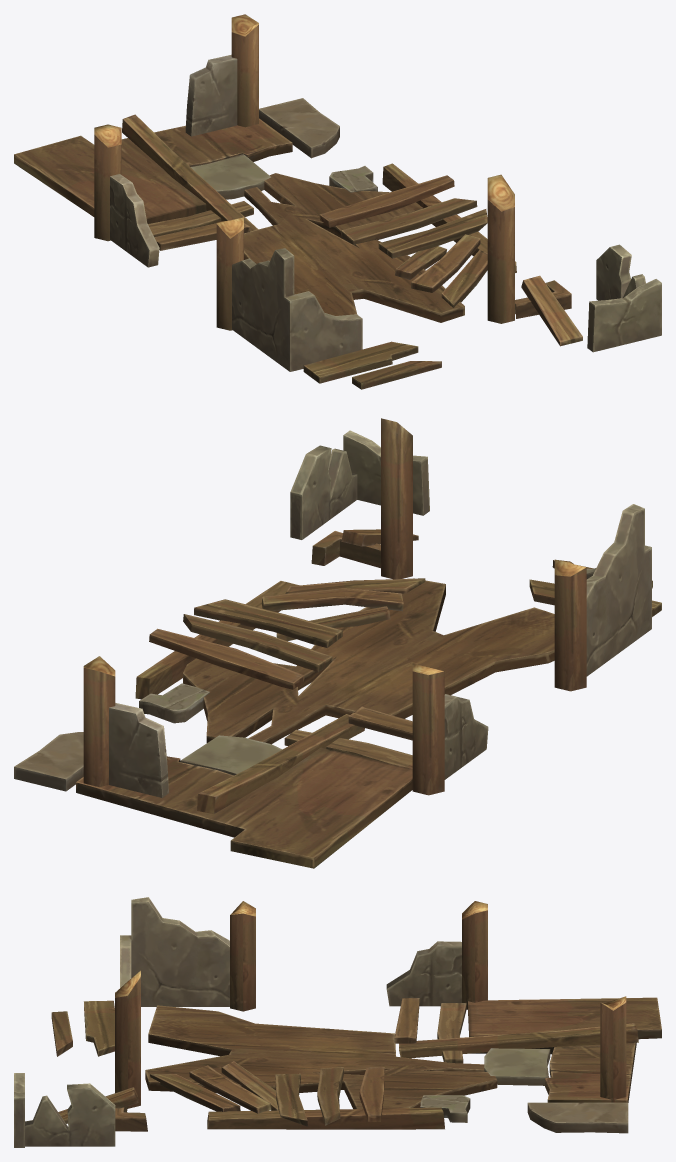
Rendered from Stage_CaoYuan_FeiXu03.FBX.
3 renders of one model, top to bottom at view 1: azimuth 30°, elevation 25°; view 2: azimuth 150°, elevation 25°; view 3: azimuth 270°, elevation 25°, orthographic. The views are drawn at different scales.
Parts seen in each view (by area): view 1: Stage_CaoYuan_FeiXu03; view 2: Stage_CaoYuan_FeiXu03; view 3: Stage_CaoYuan_FeiXu03.
Part boxes in pixels (box(x1,y1,x2,y2)): Stage_CaoYuan_FeiXu03: box(14, 14, 661, 389); Stage_CaoYuan_FeiXu03: box(14, 418, 661, 868); Stage_CaoYuan_FeiXu03: box(14, 897, 661, 1147).
Bounding box in the file's own units: 361 × 151 × 659.
